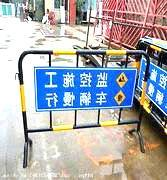sign: (36, 67, 134, 107)
